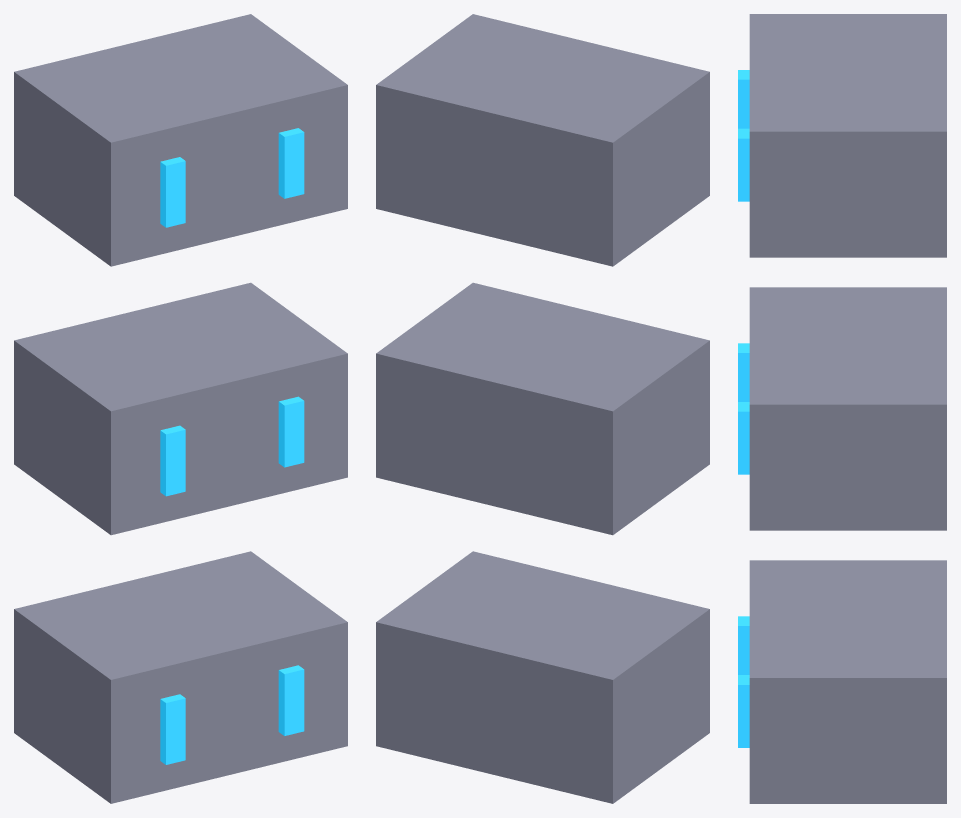
The model's file is server.glb.
3 views of the same model, side by side, from view 1: azimuth 30°, elevation 25°; view 2: azimuth 150°, elevation 25°; view 3: azimuth 270°, elevation 25° (orthographic).
Parts seen in each view (by area): view 1: section_0, section_2, section_1, strip_b_2, strip_b_1, strip_b_0, strip_a_1, strip_a_0, strip_a_2; view 2: section_0, section_2, section_1; view 3: section_0, section_1, section_2, strip_b_2, strip_b_0, strip_b_1, strip_a_0, strip_a_1, strip_a_2.
Boxes of the visible parts, left/top/right/bottom form: section_0: left=14, top=551, right=347, bottom=803; section_2: left=14, top=14, right=347, bottom=266; section_1: left=14, top=282, right=347, bottom=535; strip_b_2: left=278, top=128, right=304, bottom=198; strip_b_1: left=278, top=396, right=304, bottom=467; strip_b_0: left=278, top=665, right=304, bottom=735; strip_a_1: left=160, top=425, right=185, bottom=496; strip_a_0: left=160, top=694, right=185, bottom=764; strip_a_2: left=160, top=157, right=185, bottom=227; section_0: left=376, top=551, right=709, bottom=803; section_2: left=376, top=14, right=709, bottom=266; section_1: left=376, top=282, right=709, bottom=535; section_0: left=749, top=560, right=946, bottom=803; section_1: left=749, top=287, right=946, bottom=530; section_2: left=749, top=14, right=946, bottom=257; strip_b_2: left=738, top=128, right=749, bottom=201; strip_b_0: left=738, top=675, right=749, bottom=747; strip_b_1: left=738, top=402, right=749, bottom=474; strip_a_0: left=738, top=616, right=749, bottom=674; strip_a_1: left=738, top=343, right=749, bottom=401; strip_a_2: left=738, top=70, right=749, bottom=128.
Size of the model in its own units: 0.48 by 1.28 by 0.36.
